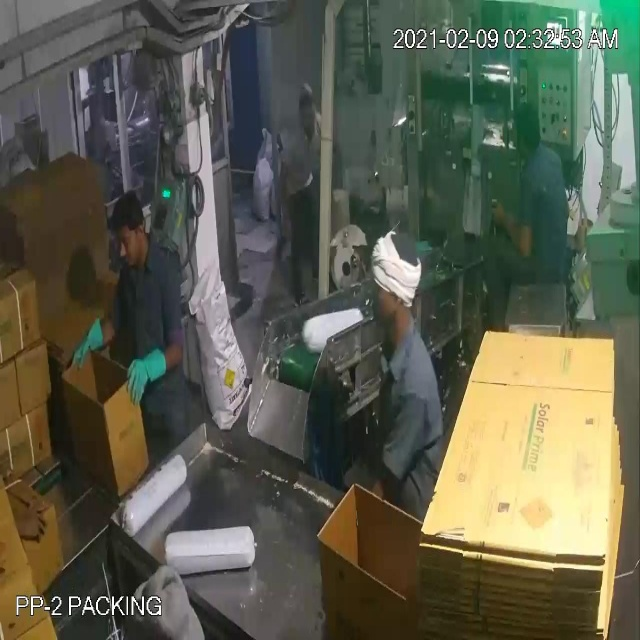Guantes: (117, 340, 174, 412), (68, 311, 108, 382)
Sin_guantes: (488, 187, 553, 276), (1, 480, 60, 553), (272, 140, 303, 243)
